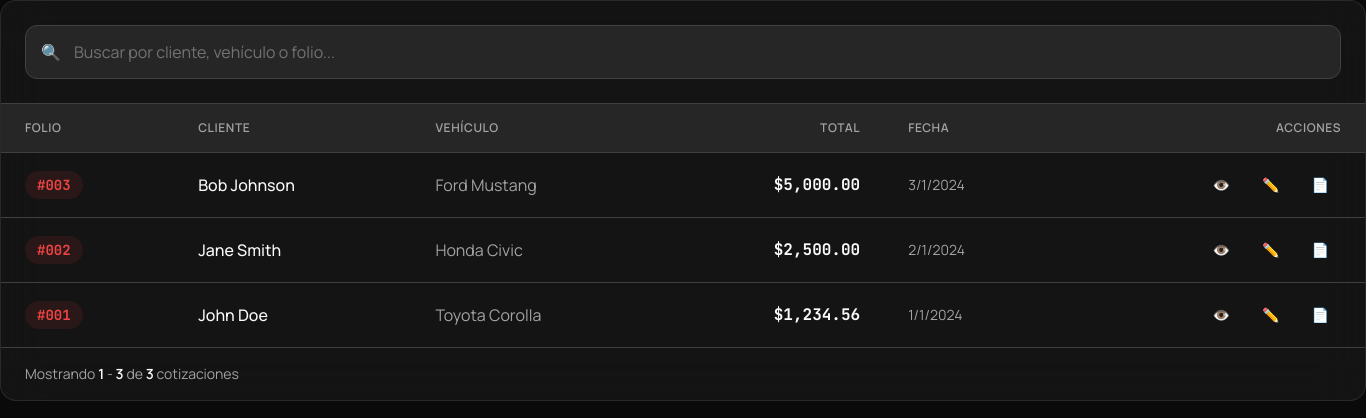
QuotationList component › filters quotations by vehicle brand
In the field with placeholder "Buscar por cliente, vehículo o folio...": [683, 52] box x1=25 y1=25 x2=1341 y2=79, type "Honda"
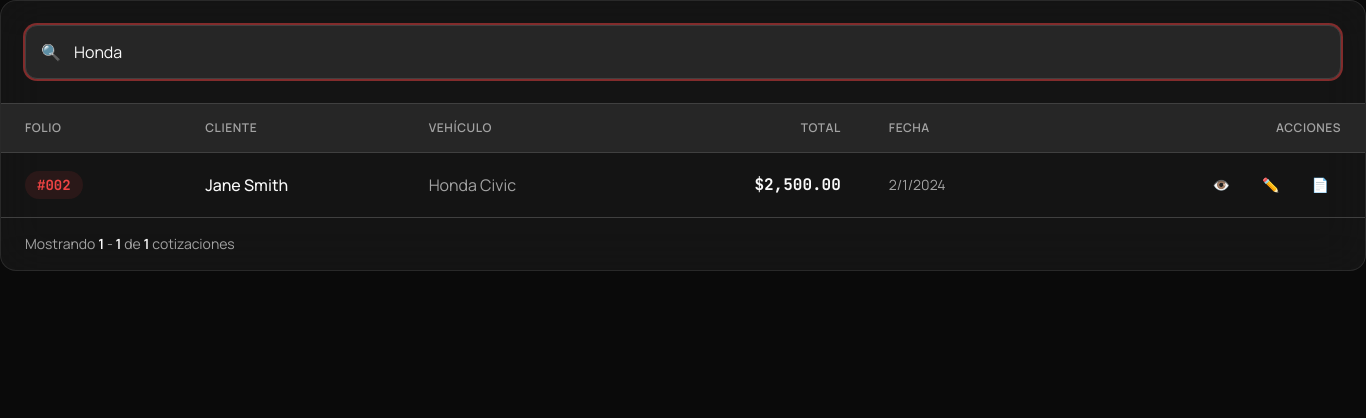
Expected: the text "Jane Smith" is shown, x1=181 y1=152 x2=405 y2=217
Now the text "John Doe" is gone
